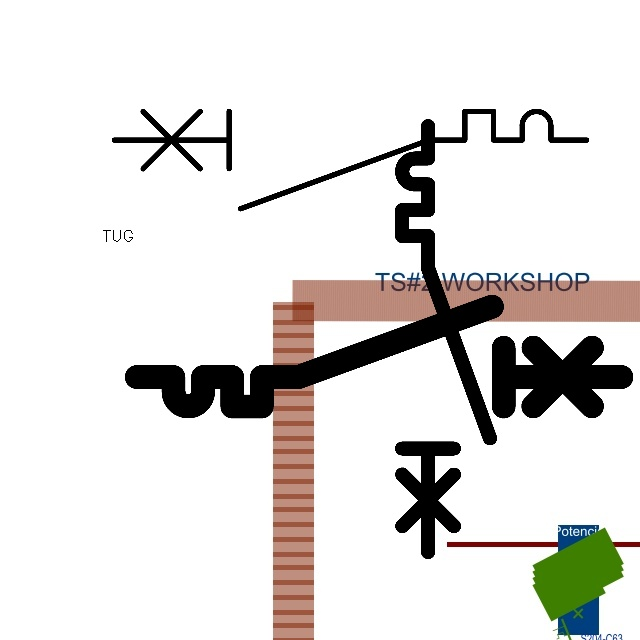interruptor_termomagnetico: (124, 294, 633, 419), (102, 99, 599, 220), (391, 115, 500, 563)
